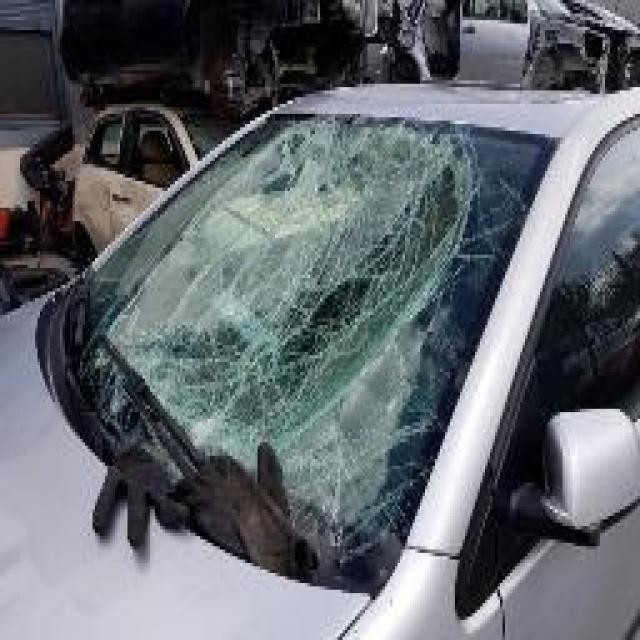Windshield: (65, 117, 502, 526)
